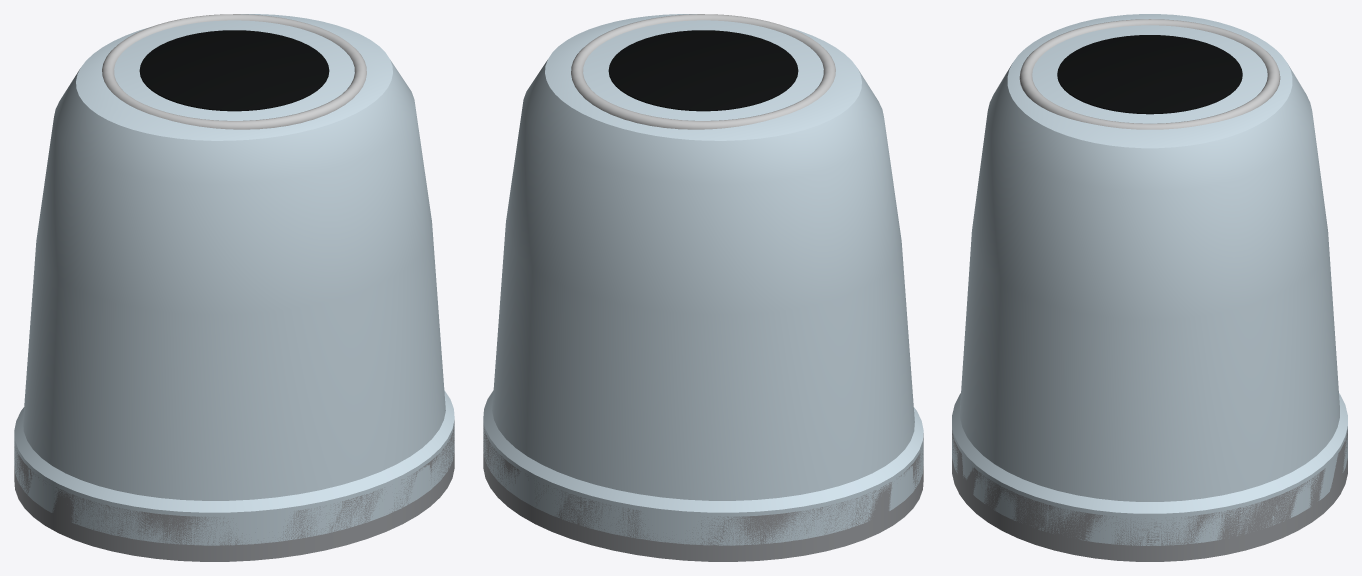
The model's file is HW500DAS.glb.
The picture shows the model from 3 angles, left to right: view 1: azimuth 30°, elevation 25°; view 2: azimuth 150°, elevation 25°; view 3: azimuth 270°, elevation 25°; orthographic projection. The views are drawn at different scales.
Visible parts, largest first — view 1: HW500DAS; view 2: HW500DAS; view 3: HW500DAS.
Part boxes in pixels (left/top/right/bottom): HW500DAS: left=14, top=14, right=454, bottom=561; HW500DAS: left=483, top=14, right=923, bottom=561; HW500DAS: left=952, top=14, right=1347, bottom=561.
Bounding box in the file's own units: 0.39 × 0.395 × 0.35.
